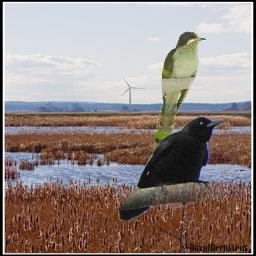Crow: (118, 117, 224, 221)
Cuckoo: (153, 31, 207, 152)
